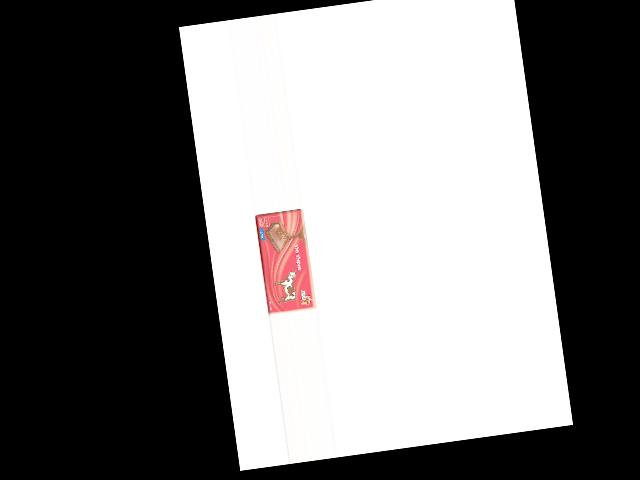chocolate: (254, 207, 317, 316)
